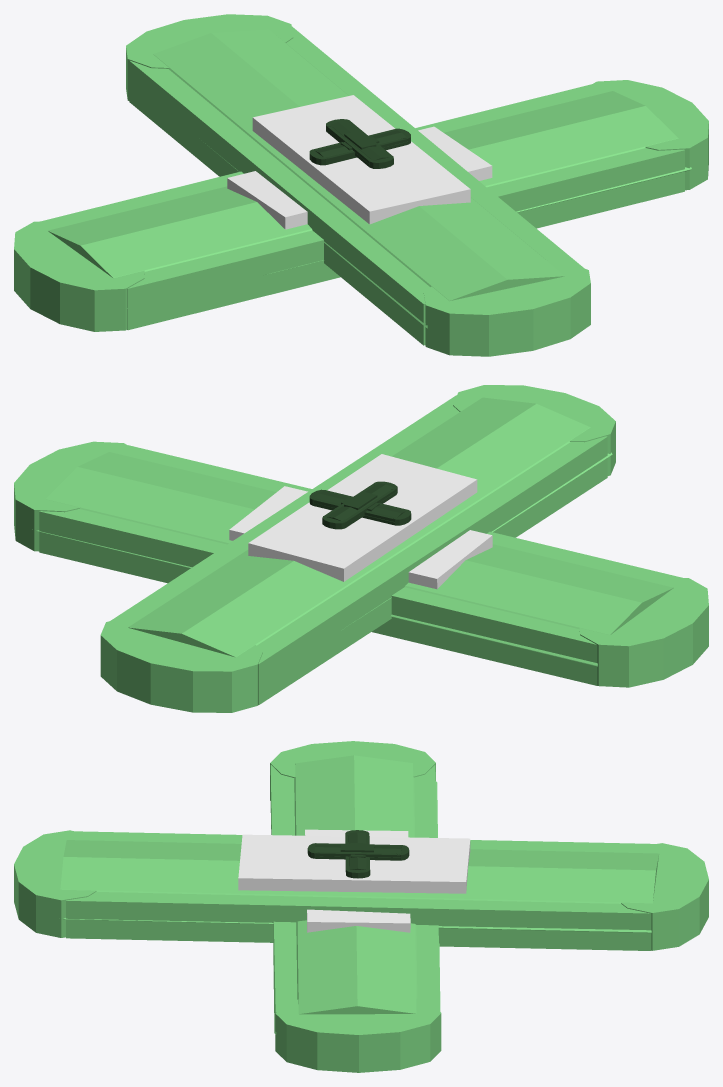
The model's file is band-aid01.fbx.
3 views of the same model, one above another, from view 1: azimuth 30°, elevation 25°; view 2: azimuth 150°, elevation 25°; view 3: azimuth 270°, elevation 25° (orthographic). The views are drawn at different scales.
Parts seen in each view (by area): view 1: Cylinder.007, Cylinder, Cube.004, Cube.002, Cube, Cylinder.002, Cylinder.009, Cylinder.008, Cylinder.003, Cube.001, Cube.005, Cylinder.011 (+1 smaller); view 2: Cylinder.007, Cylinder, Cube.004, Cube.002, Cube, Cylinder.003, Cylinder.009, Cylinder.008, Cylinder.002, Cube.001, Cylinder.011, Cube.005 (+2 smaller); view 3: Cube.002, Cylinder, Cylinder.007, Cube, Cylinder.008, Cube.004, Cylinder.003, Cylinder.002, Cylinder.009, Cube.001, Cube.006, Cylinder.014.
Part boxes in pixels (box(x1,y1,x2,y2)): Cylinder.007: box(48, 91, 691, 308); Cylinder: box(153, 29, 564, 328); Cube.004: box(42, 84, 684, 330); Cube.002: box(129, 26, 584, 345); Cube: box(252, 95, 470, 224); Cylinder.002: box(423, 261, 590, 356); Cylinder.009: box(14, 220, 144, 331); Cylinder.008: box(578, 80, 708, 190); Cylinder.003: box(126, 14, 293, 100); Cube.001: box(227, 126, 492, 229); Cube.005: box(314, 129, 407, 164); Cylinder.011: box(315, 130, 408, 157); Cylinder.007: box(32, 452, 673, 666); Cylinder: box(128, 397, 612, 657); Cube.004: box(39, 445, 682, 685); Cube.002: box(110, 395, 607, 705); Cube: box(248, 454, 477, 581); Cylinder.003: box(100, 615, 262, 712); Cylinder.009: box(579, 576, 708, 687); Cylinder.008: box(14, 441, 142, 551); Cylinder.002: box(453, 385, 615, 475); Cube.001: box(229, 486, 492, 589); Cylinder.011: box(314, 491, 405, 522); Cube.005: box(313, 490, 406, 525); Cube.002: box(66, 831, 654, 950); Cylinder: box(60, 840, 658, 933); Cylinder.007: box(273, 755, 440, 1034); Cube: box(238, 834, 470, 893); Cylinder.008: box(275, 998, 441, 1072); Cube.004: box(270, 765, 440, 1013); Cylinder.003: box(621, 843, 708, 950); Cylinder.002: box(14, 830, 101, 937); Cylinder.009: box(270, 741, 435, 800); Cube.001: box(305, 829, 410, 932); Cube.006: box(315, 843, 400, 860); Cylinder.014: box(314, 844, 401, 857).
Bounding box in the file's own units: 938 × 129 × 936.
